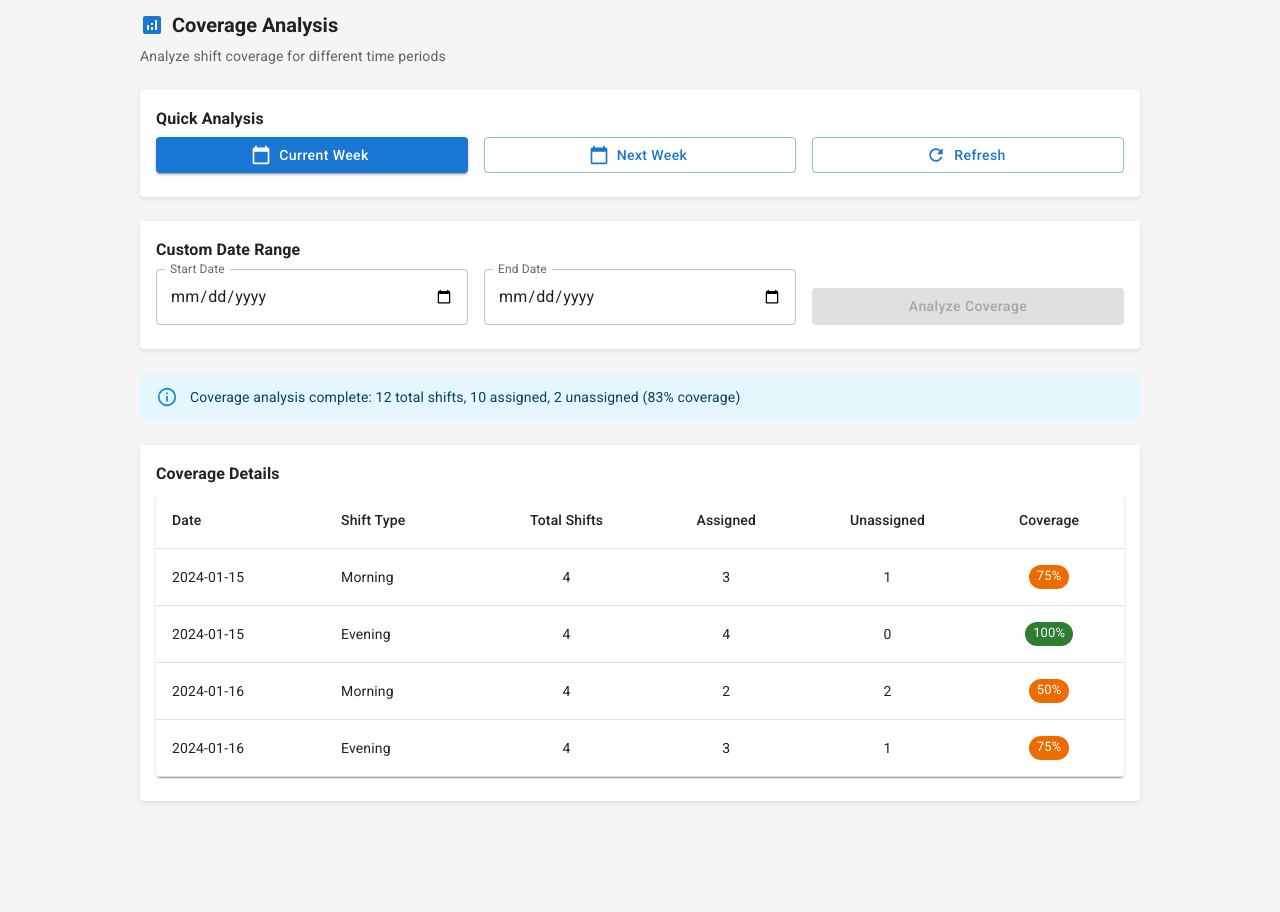
it: CoverageAnalysisView › Custom Date Range › enables Analyze Coverage button when both dates are provided
Type "2024-01-15" into the date field labelled "Start Date" at (312, 297), box [156,269,468,325]
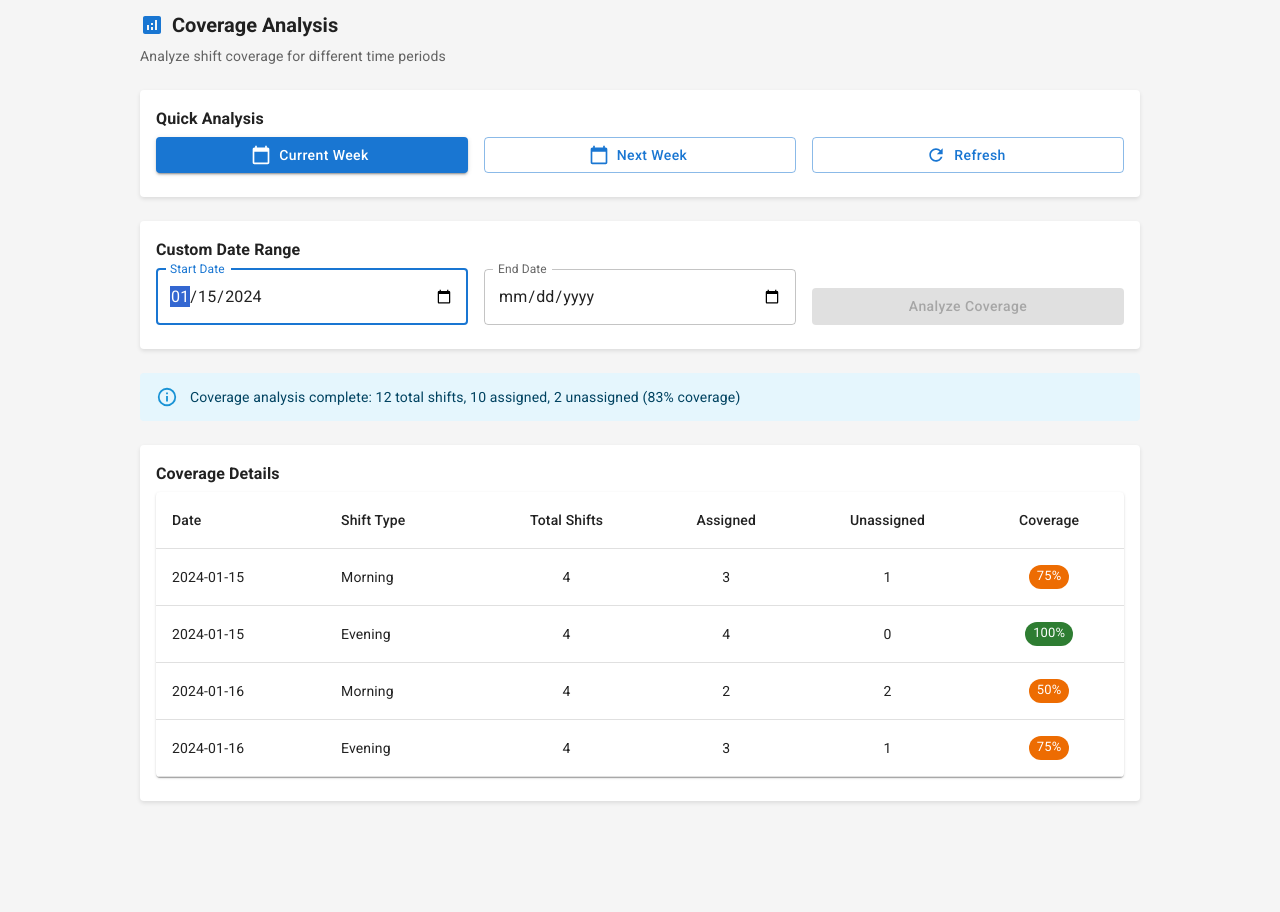
Type "2024-01-21" into the date field labelled "End Date" at (640, 297), box [484,269,796,325]
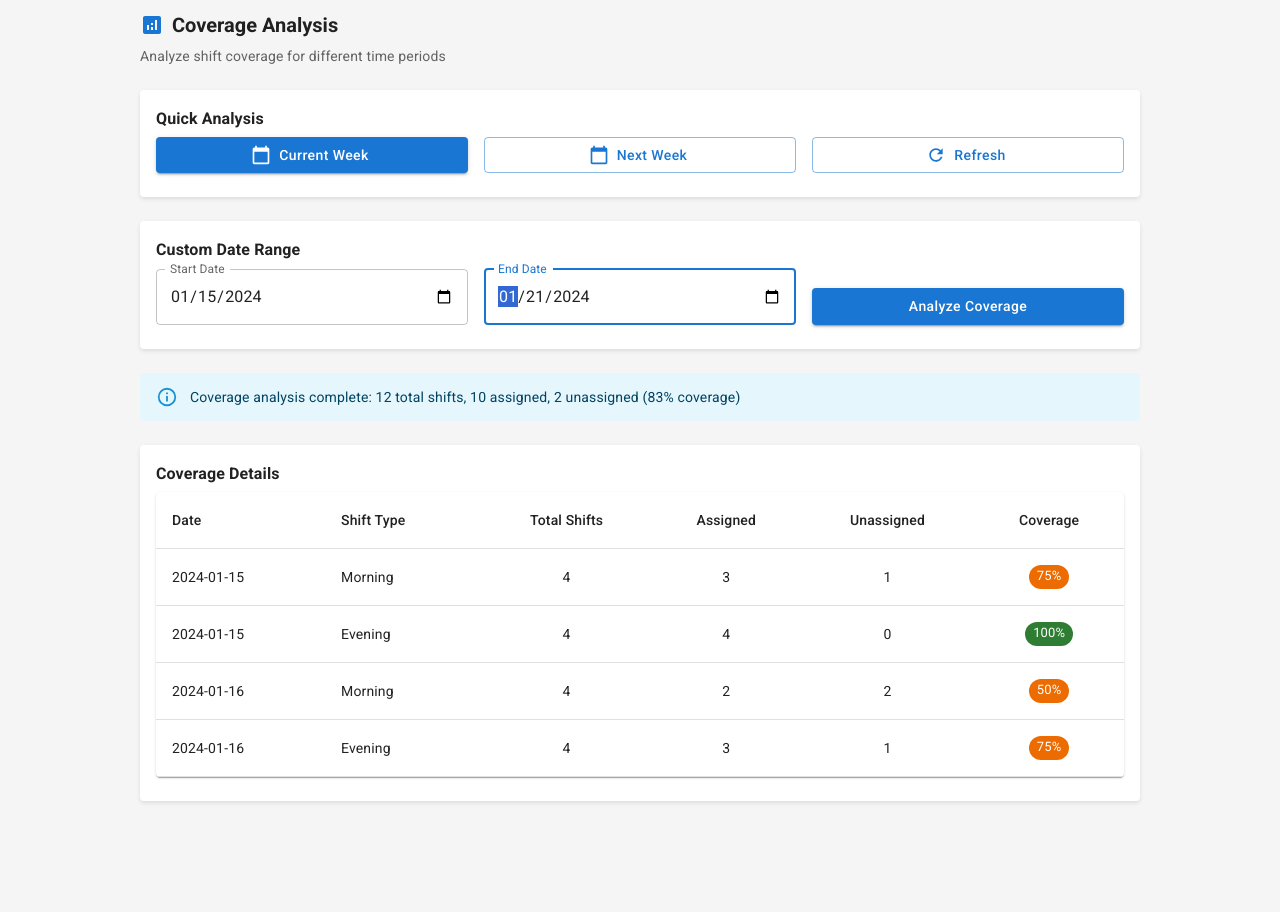
Expected: the button "Analyze Coverage" is enabled, [812,288,1124,325]
